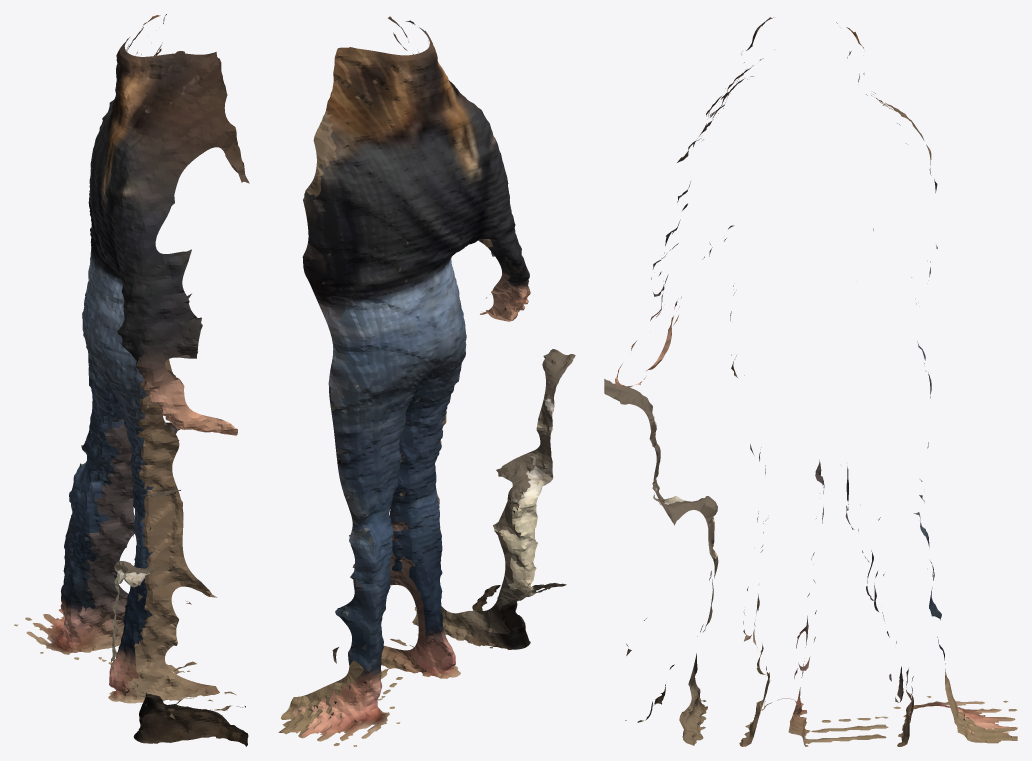
The picture shows the model from 3 angles, left to right: view 1: azimuth 30°, elevation 25°; view 2: azimuth 150°, elevation 25°; view 3: azimuth 270°, elevation 25°; orthographic projection. The views are drawn at different scales.
Size of the model in its own units: 0.2895 by 1.41 by 0.7491.
1 material, 1 textured.
